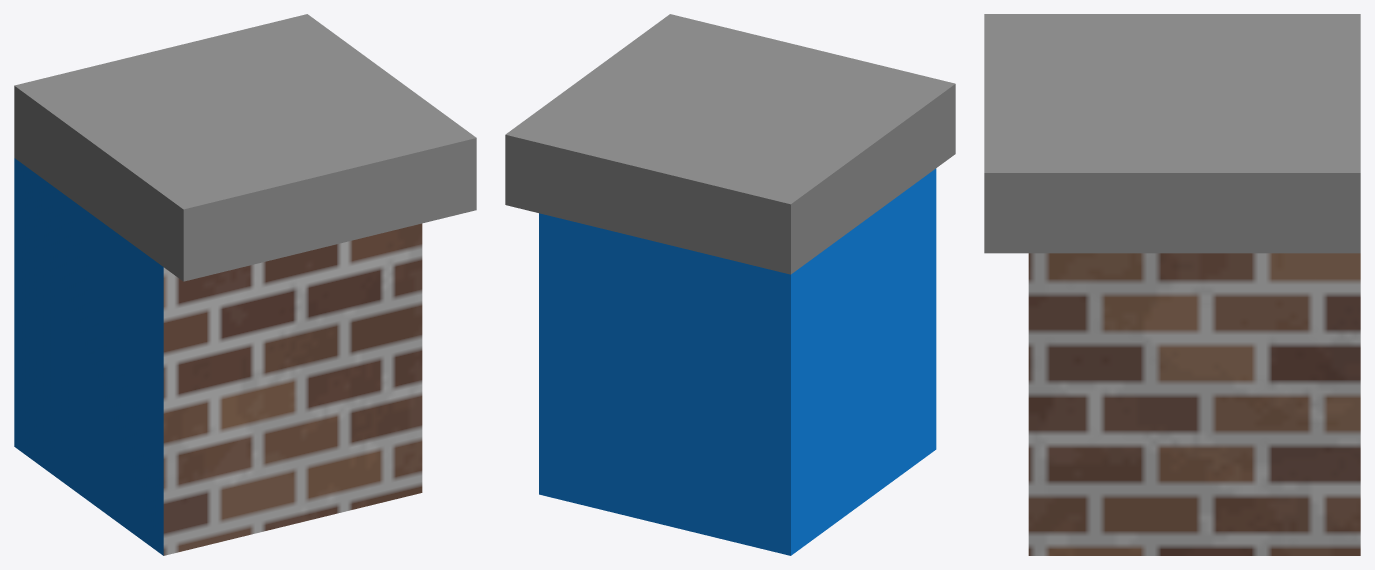
The model's file is Corner_Wall_003.FBX.
3 views of the same model, side by side, from view 1: azimuth 30°, elevation 25°; view 2: azimuth 150°, elevation 25°; view 3: azimuth 270°, elevation 25° (orthographic). The views are drawn at different scales.
Parts seen in each view (by area): view 1: Corner_Wall_003; view 2: Corner_Wall_003; view 3: Corner_Wall_003.
Part boxes in pixels (x1,y1,x2,y2): Corner_Wall_003: (14, 14, 476, 555); Corner_Wall_003: (505, 14, 955, 555); Corner_Wall_003: (984, 14, 1360, 555).
Size of the model in its own units: 85 by 85 by 100.
